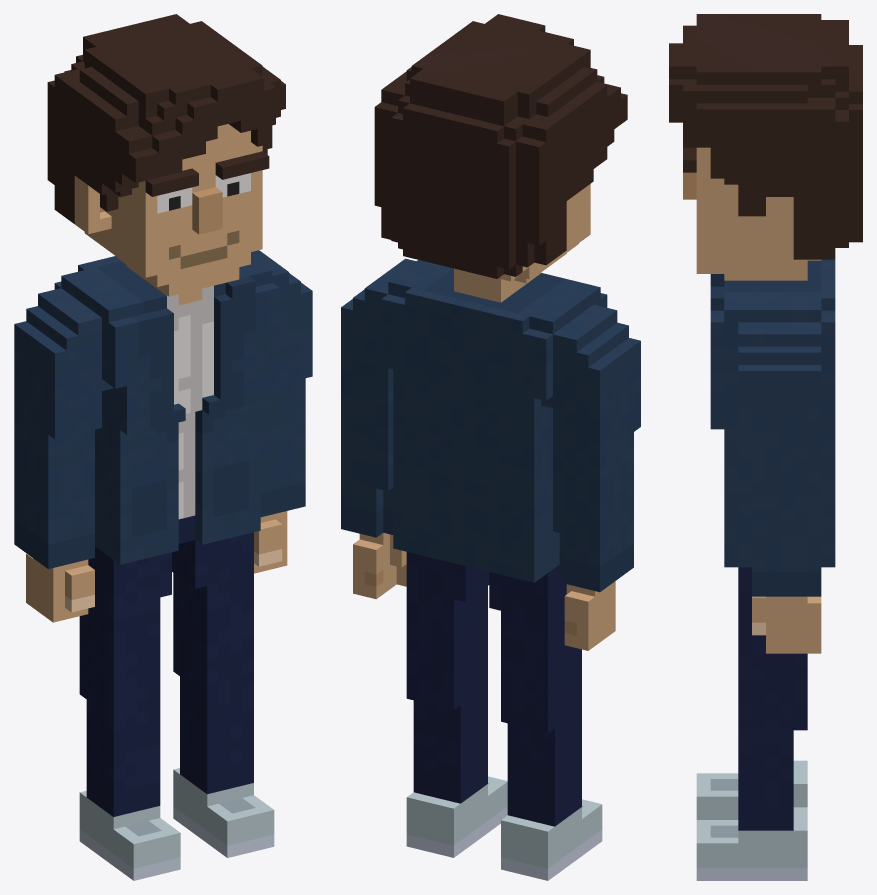
3 views of the same model, side by side, from view 1: azimuth 30°, elevation 25°; view 2: azimuth 150°, elevation 25°; view 3: azimuth 270°, elevation 25° (orthographic). The views are drawn at different scales.
Parts seen in each view (by area): view 1: ObjObject.003; view 2: ObjObject.003; view 3: ObjObject.003.
Part boxes in pixels (box(x1,y1,x2,y2)): ObjObject.003: box(14, 14, 312, 880); ObjObject.003: box(341, 14, 640, 880); ObjObject.003: box(669, 14, 862, 880).
Bounding box in the file's own units: 2.2 × 6.4 × 1.4.
Materials: 1 (1 with a texture image).
